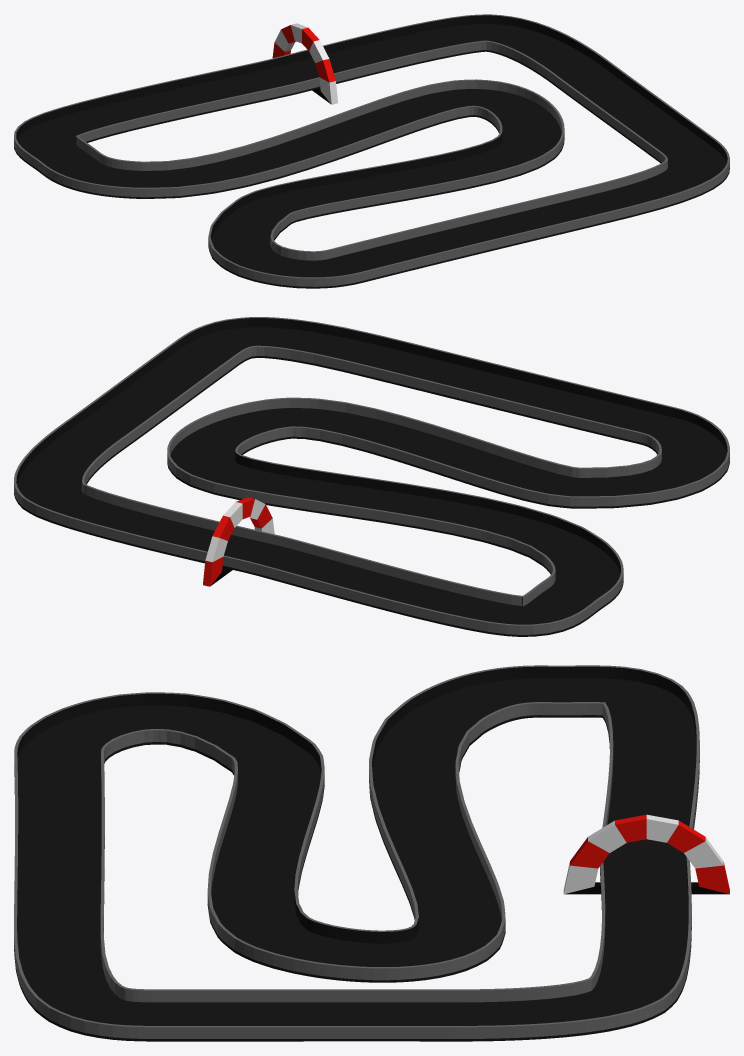
File: SpielbergWersjaSpecjalnaBardzoSpecjalnav3.fbx
3 views of the same model, one above another, from view 1: azimuth 30°, elevation 25°; view 2: azimuth 150°, elevation 25°; view 3: azimuth 270°, elevation 25° (orthographic). The views are drawn at different scales.
Visible parts, largest first — view 1: Cube, Circle; view 2: Cube, Circle; view 3: Cube, Circle.
Boxes of the visible parts, x1,y1,x2,y2 form: Cube: (14, 14, 729, 288); Circle: (272, 23, 337, 104); Cube: (14, 317, 729, 636); Circle: (203, 497, 274, 586); Cube: (14, 665, 699, 1041); Circle: (563, 814, 729, 894).
Size of the model in its own units: 18601 by 1807 by 15552.
